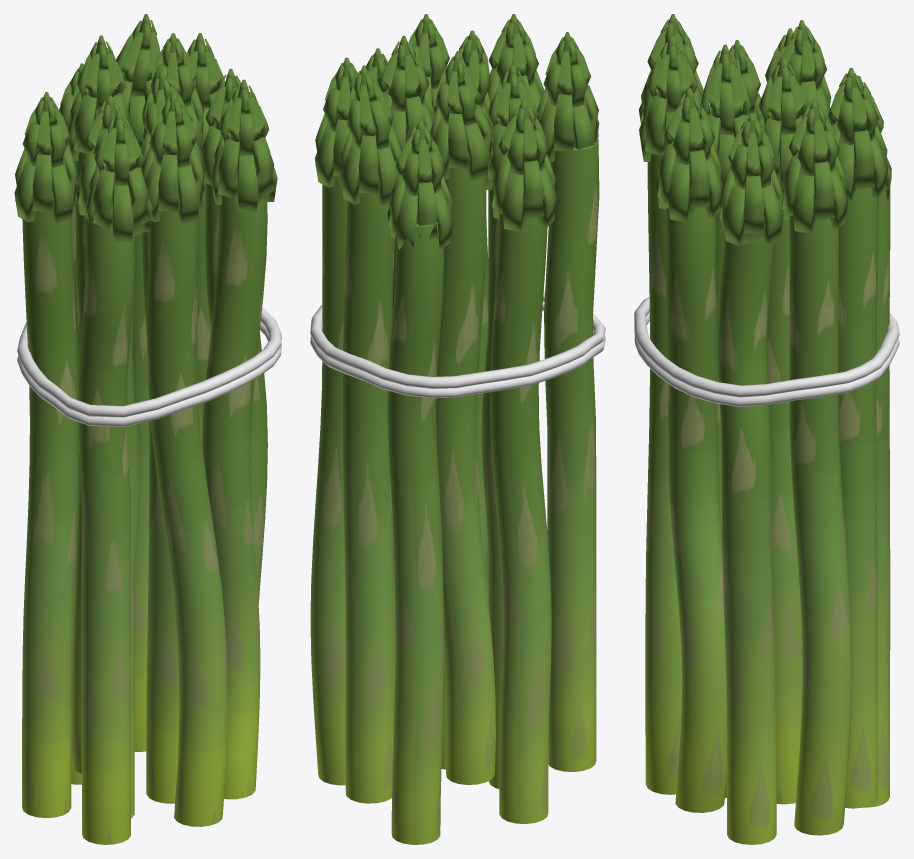
Rendered from asparagus_fbx.fbx.
The picture shows the model from 3 angles, left to right: view 1: azimuth 30°, elevation 25°; view 2: azimuth 150°, elevation 25°; view 3: azimuth 270°, elevation 25°; orthographic projection.
Visible parts, largest first — view 1: Cylinder.012, Cylinder.008, Cylinder.014, Cylinder.022, Cylinder, Cylinder.010, Cylinder.015, Cylinder.023, Cylinder.013, Cylinder.009, Cylinder.004, Torus (+14 smaller); view 2: Cylinder.020, Cylinder.012, Cylinder.014, Cylinder.010, Cylinder.016, Cylinder.006, Cylinder.015, Cylinder.011, Cylinder.021, Cylinder.017, Cylinder.013, Cylinder.002 (+9 smaller); view 3: Cylinder.006, Cylinder.004, Cylinder.022, Cylinder.010, Cylinder.008, Cylinder.018, Cylinder.020, Cylinder.005, Cylinder.023, Cylinder.007, Cylinder.011, Torus (+8 smaller).
Part boxes in pixels (x1,y1,x2,y2): Cylinder.012: (78, 212, 134, 844); Cylinder.008: (146, 211, 228, 826); Cylinder.014: (22, 195, 78, 817); Cylinder.022: (202, 195, 267, 799); Cylinder: (146, 232, 197, 803); Cylinder.010: (132, 167, 149, 751); Cylinder.015: (14, 92, 78, 223); Cylinder.023: (210, 79, 277, 212); Cylinder.013: (85, 109, 152, 242); Cylinder.009: (142, 92, 205, 224); Cylinder.004: (205, 183, 267, 604); Torus: (17, 308, 281, 417); Cylinder.020: (387, 222, 444, 844); Cylinder.012: (544, 138, 599, 771); Cylinder.014: (490, 213, 551, 823); Cylinder.010: (342, 184, 394, 803); Cylinder.016: (436, 168, 495, 784); Cylinder.006: (310, 164, 347, 785); Cylinder.015: (490, 99, 557, 231); Cylinder.011: (340, 65, 402, 206); Cylinder.021: (387, 120, 453, 249); Cylinder.017: (430, 51, 493, 180); Cylinder.013: (536, 32, 599, 162); Cylinder.002: (481, 185, 502, 788); Cylinder.006: (789, 215, 852, 835); Cylinder.004: (718, 216, 776, 844); Cylinder.022: (666, 207, 726, 812); Cylinder.010: (839, 187, 878, 808); Cylinder.008: (645, 153, 682, 794); Cylinder.018: (767, 207, 802, 804); Cylinder.020: (864, 188, 890, 807); Cylinder.005: (720, 113, 783, 245); Cylinder.023: (655, 88, 722, 222); Cylinder.007: (782, 99, 848, 233); Cylinder.011: (828, 67, 888, 202); Torus: (634, 297, 899, 397).
Size of the model in its own units: 136 by 412 by 129.
